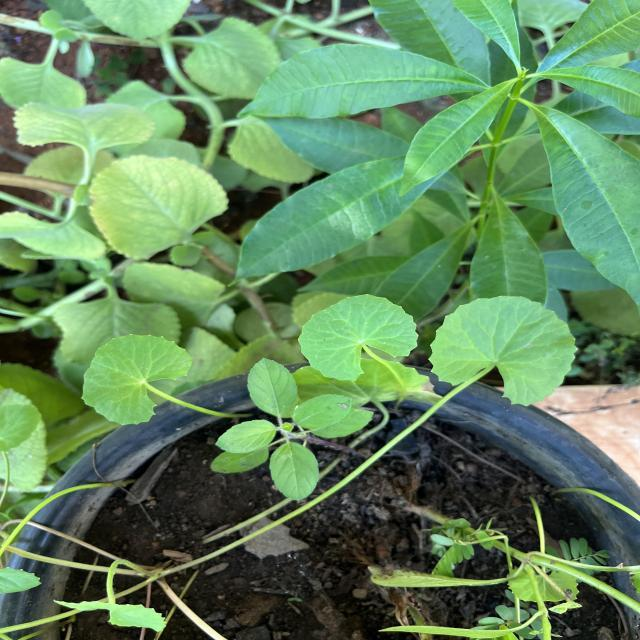Centella asiatica: (424, 294, 582, 411), (294, 291, 422, 385), (77, 331, 196, 428)
